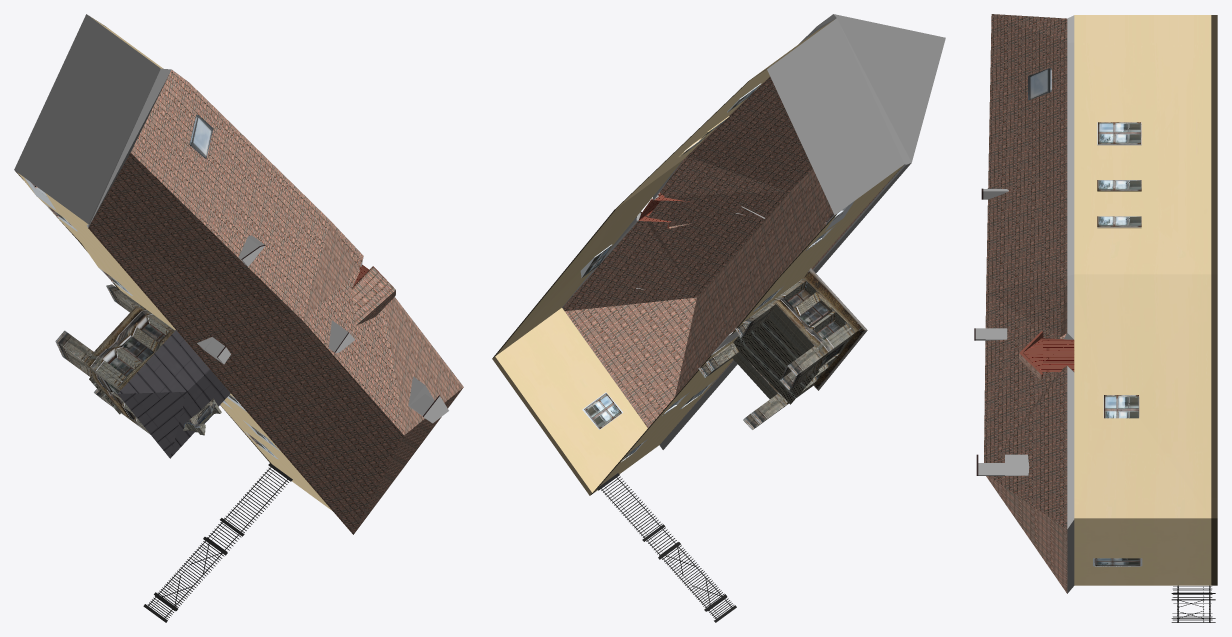
The model's file is Kohtu-3-origo.obj.
3 renders of one model, left to right at view 1: azimuth 30°, elevation 25°; view 2: azimuth 150°, elevation 25°; view 3: azimuth 270°, elevation 25°, orthographic. The views are drawn at different scales.
Parts seen in each view (by area): view 1: Kohtu_3; view 2: Kohtu_3; view 3: Kohtu_3.
Part boxes in pixels (x1,y1,x2,y2): Kohtu_3: [14, 14, 463, 622]; Kohtu_3: [492, 14, 945, 622]; Kohtu_3: [974, 14, 1217, 622].
Bounding box in the file's own units: 22.75 × 35 × 13.28.
